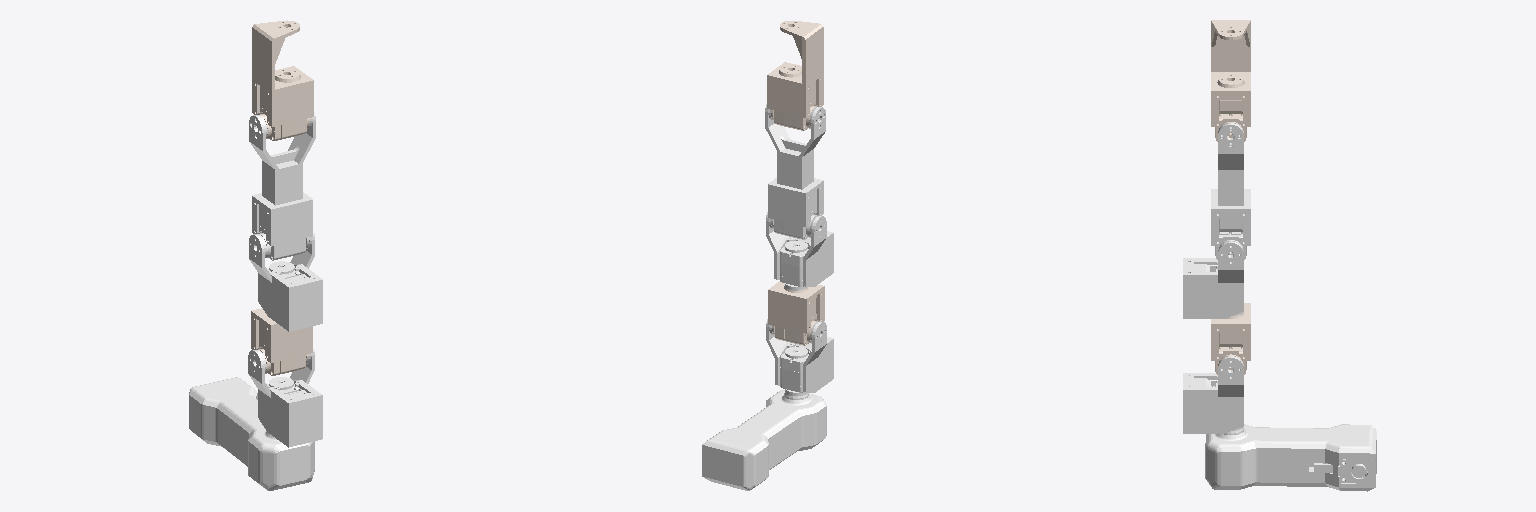
robot.urdf — tea_leader_left:
<?xml version="1.0" ?>
<robot name="tea_leader_left">
    <link name="base_link">
        <inertial>
            <origin xyz="-6.7673E-07 -7.6283E-05 0.18515" rpy="0 0 0" />
            <mass value="1.1647" />
            <inertia ixx="0.0050018" ixy="3.9922E-09" ixz="-5.4213E-08" iyy="0.0054966" iyz="2.833E-07" izz="0.0029097" />
        </inertial>
        <visual>
            <origin xyz="0 0 0" rpy="0 0 0" />
            <geometry>
                <mesh filename="package://tea_leader_description/model/left/meshes/base_link.STL" />
            </geometry>
            <material name="">
                <color rgba="1 1 1 1" />
            </material>
        </visual>
        <collision>
            <origin xyz="0 0 0" rpy="0 0 0" />
            <geometry>
                <mesh filename="package://tea_leader_description/model/left/meshes/base_link.STL" />
            </geometry>
        </collision>
    </link>
    <link name="left_link1">
        <inertial>
            <origin xyz="0.0068085 5.8356E-05 0.016585" rpy="0 0 0" />
            <mass value="0.0155" />
            <inertia ixx="1.6818E-05" ixy="-2.8728E-09" ixz="1.8773E-06" iyy="1.6555E-05" iyz="1.9966E-09" izz="6.6849E-06" />
        </inertial>
        <visual>
            <origin xyz="0 0 0" rpy="0 0 0" />
            <geometry>
                <mesh filename="package://tea_leader_description/model/left/meshes/left_link1.STL" />
            </geometry>
            <material name="">
                <color rgba="1 0.94902 0.9098 1" />
            </material>
        </visual>
        <collision>
            <origin xyz="0 0 0" rpy="0 0 0" />
            <geometry>
                <mesh filename="package://tea_leader_description/model/left/meshes/left_link1.STL" />
            </geometry>
        </collision>
    </link>
    <joint name="left_joint1" type="revolute">
        <origin xyz="-0.1378599999998 0 0.422999999999998" rpy="-3.14159265358979 0 3.14159265358979" />
        <parent link="base_link" />
        <child link="left_link1" />
        <axis xyz="0 0 -1" />
        <limit lower="-3.141592654" upper="3.140058673" effort="0.8" velocity="10.471976" />
    </joint>
    <link name="left_link2">
        <inertial>
            <origin xyz="4.2076E-05 -0.067666 -0.019704" rpy="0 0 0" />
            <mass value="0.0855" />
            <inertia ixx="3.1405E-05" ixy="-1.9969E-09" ixz="2.8728E-09" iyy="9.3153E-06" iyz="-8.9615E-08" izz="2.9592E-05" />
        </inertial>
        <visual>
            <origin xyz="0 0 0" rpy="0 0 0" />
            <geometry>
                <mesh filename="package://tea_leader_description/model/left/meshes/left_link2.STL" />
            </geometry>
            <material name="">
                <color rgba="1 1 1 1" />
            </material>
        </visual>
        <collision>
            <origin xyz="0 0 0" rpy="0 0 0" />
            <geometry>
                <mesh filename="package://tea_leader_description/model/left/meshes/left_link2.STL" />
            </geometry>
        </collision>
    </link>
    <joint name="left_joint2" type="revolute">
        <origin xyz="-0.0147000000000034 0 0.0411999999998964" rpy="-1.5707963267949 0 1.5707963267949" />
        <parent link="left_link1" />
        <child link="left_link2" />
        <axis xyz="0 0 -1" />
        <limit lower="-3.141592654" upper="3.140058673" effort="0.8" velocity="10.471976" />
    </joint>
    <link name="left_link3">
        <inertial>
            <origin xyz="0.012825 -0.037347 0.019106" rpy="0 0 0" />
            <mass value="0.0736" />
            <inertia ixx="1.3337E-05" ixy="2.6132E-06" ixz="-2.0117E-09" iyy="1.4467E-05" iyz="2.8728E-09" izz="1.5803E-05" />
        </inertial>
        <visual>
            <origin xyz="0 0 0" rpy="0 0 0" />
            <geometry>
                <mesh filename="package://tea_leader_description/model/left/meshes/left_link3.STL" />
            </geometry>
            <material name="">
                <color rgba="1 1 1 1" />
            </material>
        </visual>
        <collision>
            <origin xyz="0 0 0" rpy="0 0 0" />
            <geometry>
                <mesh filename="package://tea_leader_description/model/left/meshes/left_link3.STL" />
            </geometry>
        </collision>
    </link>
    <joint name="left_joint3" type="revolute">
        <origin xyz="0 -0.103404101615037 -0.000450000000004169" rpy="-3.14159265358979 0 3.14159265358979" />
        <parent link="left_link2" />
        <child link="left_link3" />
        <axis xyz="0 0 -1" />
        <limit lower="-3.141592654" upper="3.140058673" effort="0.8" velocity="10.471976" />
    </joint>
    <link name="left_link4">
        <inertial>
            <origin xyz="0.0010771 6.9112E-05 0.023665" rpy="0 0 0" />
            <mass value="0.0671" />
            <inertia ixx="7.895E-06" ixy="-2.8728E-09" ixz="-5.3815E-08" iyy="7.033E-06" iyz="1.9969E-09" izz="5.1078E-06" />
        </inertial>
        <visual>
            <origin xyz="0 0 0" rpy="0 0 0" />
            <geometry>
                <mesh filename="package://tea_leader_description/model/left/meshes/left_link4.STL" />
            </geometry>
            <material name="">
                <color rgba="1 0.94902 0.9098 1" />
            </material>
        </visual>
        <collision>
            <origin xyz="0 0 0" rpy="0 0 0" />
            <geometry>
                <mesh filename="package://tea_leader_description/model/left/meshes/left_link4.STL" />
            </geometry>
        </collision>
    </link>
    <joint name="left_joint4" type="revolute">
        <origin xyz="2.96374134460526E-05 -0.0601641016151417 0.0190500000000032" rpy="1.5707963267949 -1.5707963267949 0" />
        <parent link="left_link3" />
        <child link="left_link4" />
        <axis xyz="0 0 1" />
        <limit lower="-3.141592654" upper="3.140058673" effort="0.8" velocity="10.471976" />
    </joint>
    <link name="left_link5">
        <inertial>
            <origin xyz="0.012751 -0.03735 -0.018994" rpy="0 0 0" />
            <mass value="0.0736" />
            <inertia ixx="1.3336E-05" ixy="2.6129E-06" ixz="-2.0119E-09" iyy="1.4467E-05" iyz="2.8729E-09" izz="1.5802E-05" />
        </inertial>
        <visual>
            <origin xyz="0 0 0" rpy="0 0 0" />
            <geometry>
                <mesh filename="package://tea_leader_description/model/left/meshes/left_link5.STL" />
            </geometry>
            <material name="">
                <color rgba="1 1 1 1" />
            </material>
        </visual>
        <collision>
            <origin xyz="0 0 0" rpy="0 0 0" />
            <geometry>
                <mesh filename="package://tea_leader_description/model/left/meshes/left_link5.STL" />
            </geometry>
        </collision>
    </link>
    <joint name="left_joint5" type="revolute">
        <origin xyz="0.0195000000000017 0 0.0401117039078921" rpy="-1.5707963267949 0 -1.5707963267949" />
        <parent link="left_link4" />
        <child link="left_link5" />
        <axis xyz="0 0 1" />
        <limit lower="-3.141592654" upper="3.140058673" effort="0.8" velocity="10.471976" />
    </joint>
    <link name="left_link6">
        <inertial>
            <origin xyz="0.001178 -0.05231 0.02631" rpy="0 0 0" />
            <mass value="0.0951" />
            <inertia ixx="0.00030669" ixy="9.6008E-07" ixz="1.3016E-08" iyy="5.3334E-05" iyz="3.8675E-06" izz="0.00030966" />
        </inertial>
        <visual>
            <origin xyz="0 0 0" rpy="0 0 0" />
            <geometry>
                <mesh filename="package://tea_leader_description/model/left/meshes/left_link6.STL" />
            </geometry>
            <material name="">
                <color rgba="1 1 1 1" />
            </material>
        </visual>
        <collision>
            <origin xyz="0 0 0" rpy="0 0 0" />
            <geometry>
                <mesh filename="package://tea_leader_description/model/left/meshes/left_link6.STL" />
            </geometry>
        </collision>
    </link>
    <joint name="left_joint6" type="revolute">
        <origin xyz="-0.000111703902758702 -0.060164101615155 -0.0190500000000099" rpy="1.5707963267949 1.5707963267949 0" />
        <parent link="left_link5" />
        <child link="left_link6" />
        <axis xyz="0 0 -1" />
        <limit lower="-3.141592654" upper="3.140058673" effort="0.8" velocity="10.471976" />
    </joint>
</robot>

--- Facts derived from the render (not from the file) ---
3 views of the same robot in one strip: view 1: azimuth 30°, elevation 25°; view 2: azimuth 150°, elevation 25°; view 3: azimuth 270°, elevation 25° (orthographic).
Model tea_leader_left with 7 links and 6 joints (6 revolute), rooted at base_link, posed all joints at 0.
Links seen in each view (by area): view 1: left_link6, left_link2, left_link1, left_link5, left_link3, left_link4; view 2: left_link6, left_link2, left_link1, left_link3, left_link5, left_link4; view 3: left_link6, left_link1, left_link5, left_link3, left_link2, left_link4.
Boxes of the visible links, left/top/right/bottom form: left_link6: left=189, top=377, right=314, bottom=490; left_link2: left=249, top=112, right=315, bottom=260; left_link1: left=252, top=20, right=313, bottom=140; left_link5: left=248, top=347, right=322, bottom=447; left_link3: left=249, top=230, right=322, bottom=331; left_link4: left=251, top=308, right=312, bottom=375; left_link6: left=702, top=390, right=826, bottom=490; left_link2: left=765, top=104, right=825, bottom=239; left_link1: left=767, top=21, right=823, bottom=130; left_link3: left=766, top=212, right=833, bottom=290; left_link5: left=766, top=319, right=833, bottom=395; left_link4: left=768, top=281, right=824, bottom=345; left_link6: left=1205, top=424, right=1376, bottom=491; left_link1: left=1211, top=20, right=1250, bottom=141; left_link5: left=1183, top=356, right=1243, bottom=433; left_link3: left=1183, top=241, right=1243, bottom=318; left_link2: left=1211, top=123, right=1250, bottom=259; left_link4: left=1211, top=303, right=1250, bottom=374.
Size in the robot's own frame: 0.0536 by 0.1536 by 0.3933 metres.
Meshes: 7 distinct files referenced, 6 mesh visuals loaded (6 binary STL); not drawn: 1 (reference not matched to a file when rendering).
